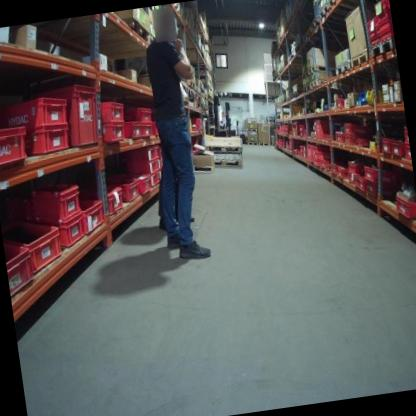pallet: (123, 13, 150, 44), (202, 138, 242, 158), (368, 35, 397, 59), (211, 155, 243, 173), (191, 162, 215, 178), (349, 51, 369, 68), (306, 62, 330, 76), (334, 62, 351, 75), (310, 78, 330, 88), (318, 5, 331, 19), (328, 0, 341, 10), (246, 140, 259, 148), (187, 80, 196, 89), (303, 83, 311, 93), (301, 70, 308, 79), (259, 141, 269, 147), (292, 91, 298, 97), (200, 92, 204, 99), (204, 95, 208, 101), (285, 97, 290, 101)
small_load_carrier: (5, 213, 68, 281), (58, 78, 109, 156), (0, 87, 70, 132), (34, 176, 83, 222), (22, 122, 74, 160), (6, 242, 38, 302), (0, 124, 34, 172), (100, 179, 131, 219), (55, 212, 88, 247), (82, 194, 110, 232), (119, 157, 162, 179), (121, 171, 145, 207), (391, 192, 416, 223), (99, 121, 128, 147), (122, 103, 154, 125), (361, 161, 390, 184), (123, 144, 160, 161), (99, 102, 125, 124), (137, 170, 155, 198), (121, 119, 142, 142), (390, 138, 404, 160), (344, 118, 364, 133), (138, 121, 155, 138), (365, 181, 383, 196), (355, 174, 368, 194), (314, 120, 327, 140), (347, 161, 364, 176), (379, 137, 392, 156), (147, 171, 162, 187), (337, 165, 352, 180), (342, 133, 356, 149), (324, 161, 340, 175), (377, 27, 393, 41), (365, 33, 380, 47), (186, 117, 201, 131), (363, 23, 379, 35), (376, 9, 390, 22), (373, 0, 389, 11), (334, 96, 345, 110), (401, 124, 409, 143), (348, 173, 358, 186), (377, 20, 391, 29), (403, 145, 411, 160), (313, 148, 325, 158), (357, 138, 370, 147), (334, 133, 344, 144), (320, 157, 328, 170), (366, 15, 377, 24), (311, 159, 320, 169), (330, 165, 337, 175)
